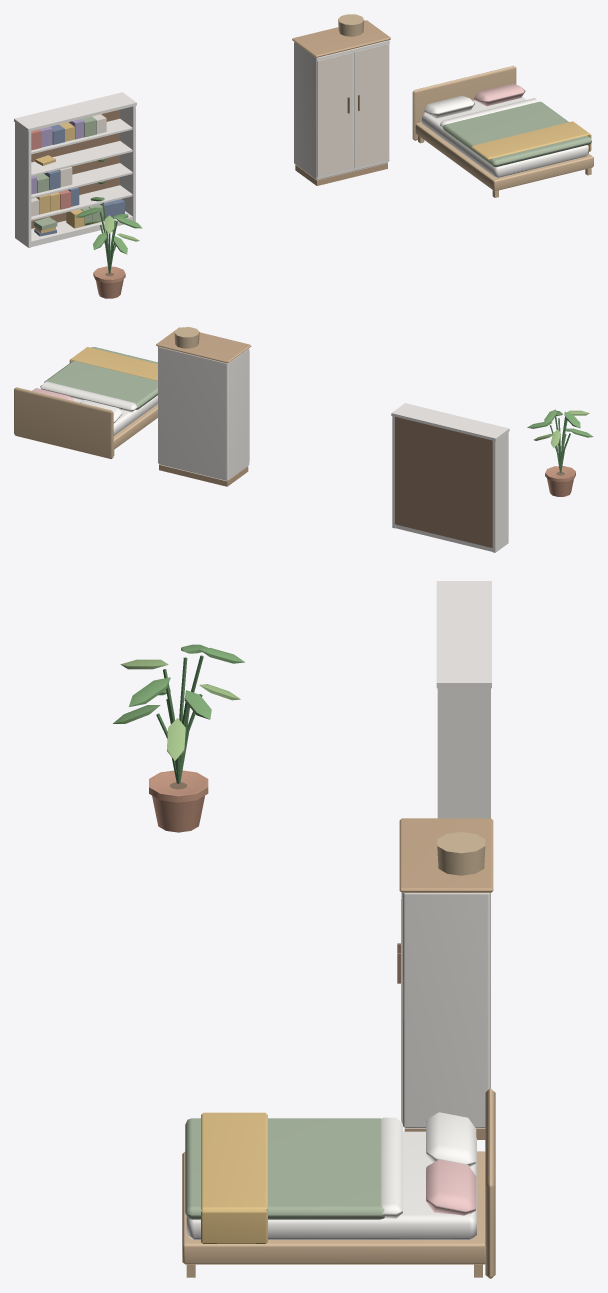
File: einrichtung_miras_zimmer_buehne.glb
3 views of the same model, one above another, from view 1: azimuth 30°, elevation 25°; view 2: azimuth 150°, elevation 25°; view 3: azimuth 270°, elevation 25° (orthographic). The views are drawn at different scales.
Visible parts, largest first — view 1: einrichtung_miras_zimmer_buehne; view 2: einrichtung_miras_zimmer_buehne; view 3: einrichtung_miras_zimmer_buehne.
Part boxes in pixels (x1,y1,x2,y2): einrichtung_miras_zimmer_buehne: (14, 14, 593, 298); einrichtung_miras_zimmer_buehne: (14, 327, 593, 552); einrichtung_miras_zimmer_buehne: (113, 581, 495, 1278).
Size of the model in its own units: 7.69 by 2.05 by 2.57.
